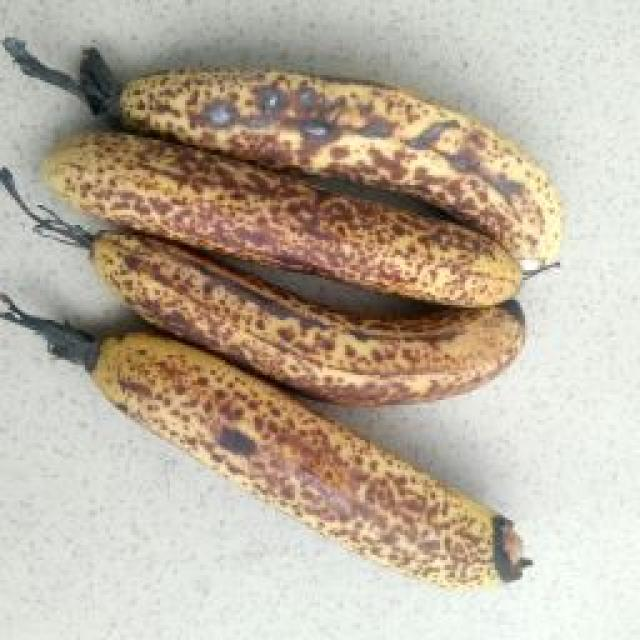banana: (117, 91, 529, 635)
